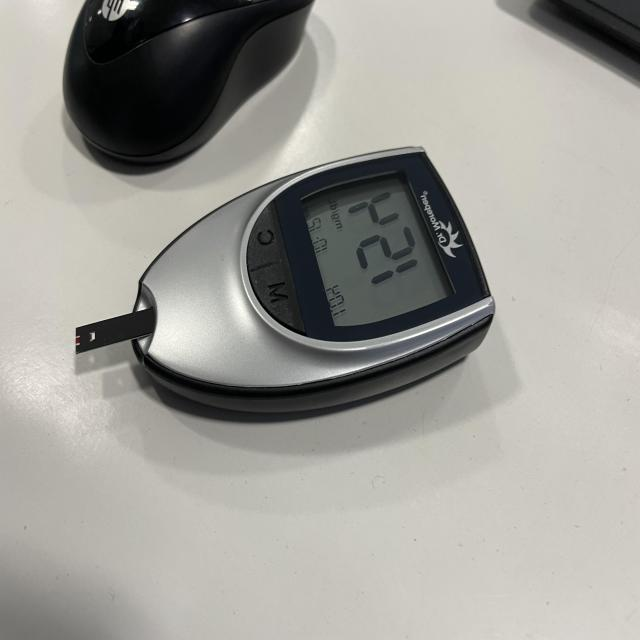gluco: (79, 148, 495, 423)
